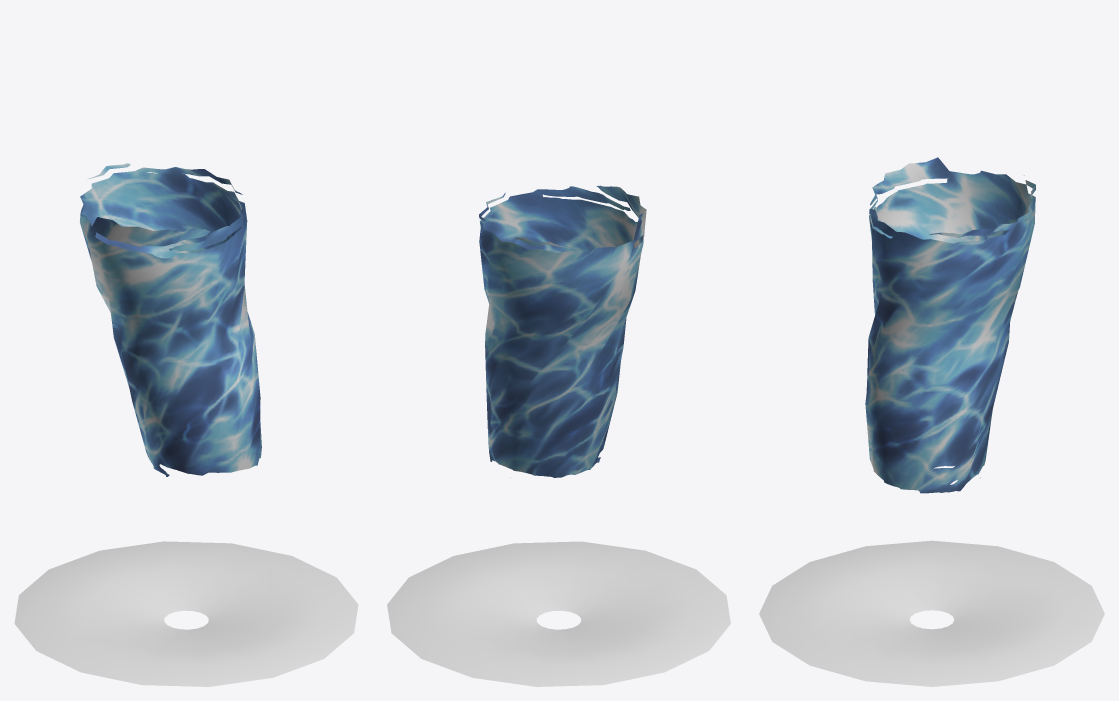
File: blackturtle_skill.FBX
3 views of the same model, side by side, from view 1: azimuth 30°, elevation 25°; view 2: azimuth 150°, elevation 25°; view 3: azimuth 270°, elevation 25° (orthographic).
Visible parts, largest first — view 1: Tube001, Tube002, Tube003; view 2: Tube001, Tube002, Tube003; view 3: Tube001, Tube002, Tube003.
Boxes of the visible parts, box(x1,y1,x2,y2) form: Tube001: box(80, 163, 261, 476); Tube002: box(17, 549, 352, 686); Tube003: box(14, 541, 358, 686); Tube001: box(479, 185, 646, 477); Tube002: box(391, 549, 728, 686); Tube003: box(387, 541, 730, 686); Tube001: box(865, 157, 1035, 493); Tube002: box(760, 549, 1103, 686); Tube003: box(759, 540, 1104, 686).
Size of the model in its own units: 332 by 597 by 332.
